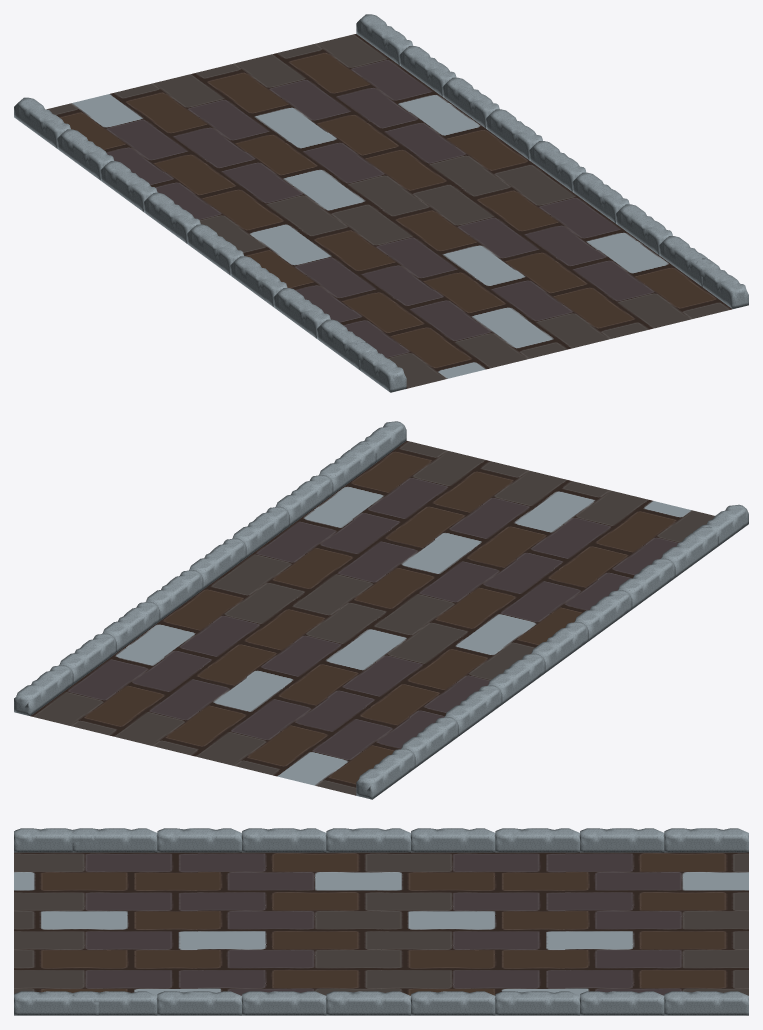
The model's file is road.FBX.
3 views of the same model, one above another, from view 1: azimuth 30°, elevation 25°; view 2: azimuth 150°, elevation 25°; view 3: azimuth 270°, elevation 25° (orthographic). The views are drawn at different scales.
Visible parts, largest first — view 1: Plane001, Box004, Box001, Box002, Box005, Box015, Box003, Box012, Box007, Box010, Box006, Box011 (+7 smaller); view 2: Plane001, Box001, Box010, Box003, Box004, Box011, Box006, Box013, Box014, Box016, Box007, Box015 (+7 smaller); view 3: Plane001, Box005, Box007, Box014, Box016, Box001, Box003, Box010, Box012, Box002, Box004, Box006 (+7 smaller).
Part boxes in pixels (bbox=[...]): Plane001: bbox=[46, 34, 731, 388]; Box004: bbox=[144, 192, 200, 243]; Box001: bbox=[14, 97, 70, 148]; Box002: bbox=[57, 129, 114, 180]; Box005: bbox=[187, 224, 243, 274]; Box015: bbox=[572, 172, 629, 223]; Box003: bbox=[100, 161, 157, 211]; Box012: bbox=[442, 77, 499, 128]; Box007: bbox=[273, 288, 330, 338]; Box010: bbox=[356, 14, 413, 65]; Box006: bbox=[230, 256, 287, 306]; Box011: bbox=[399, 46, 456, 96]; Plane001: bbox=[30, 441, 714, 795]; Box001: bbox=[356, 748, 415, 799]; Box010: bbox=[14, 665, 73, 715]; Box003: bbox=[444, 685, 502, 735]; Box004: bbox=[488, 653, 545, 704]; Box011: bbox=[59, 633, 116, 683]; Box006: bbox=[574, 590, 632, 640]; Box013: bbox=[145, 570, 203, 620]; Box014: bbox=[189, 538, 246, 589]; Box016: bbox=[275, 475, 333, 525]; Box007: bbox=[618, 558, 675, 609]; Box015: bbox=[232, 506, 289, 557]; Plane001: bbox=[14, 852, 748, 995]; Box005: bbox=[326, 828, 410, 852]; Box007: bbox=[157, 828, 241, 852]; Box014: bbox=[326, 991, 410, 1015]; Box016: bbox=[157, 991, 241, 1015]; Box001: bbox=[664, 828, 748, 852]; Box003: bbox=[495, 828, 579, 852]; Box010: bbox=[664, 991, 748, 1015]; Box012: bbox=[495, 991, 579, 1015]; Box002: bbox=[580, 828, 664, 852]; Box004: bbox=[411, 828, 495, 852]; Box006: bbox=[242, 828, 326, 852].
Bounding box in the file's own units: 10996 × 500 × 20000.
2 materials, 2 textured.
